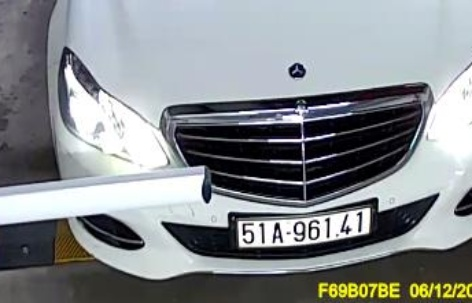plate: (229, 203, 376, 258)
